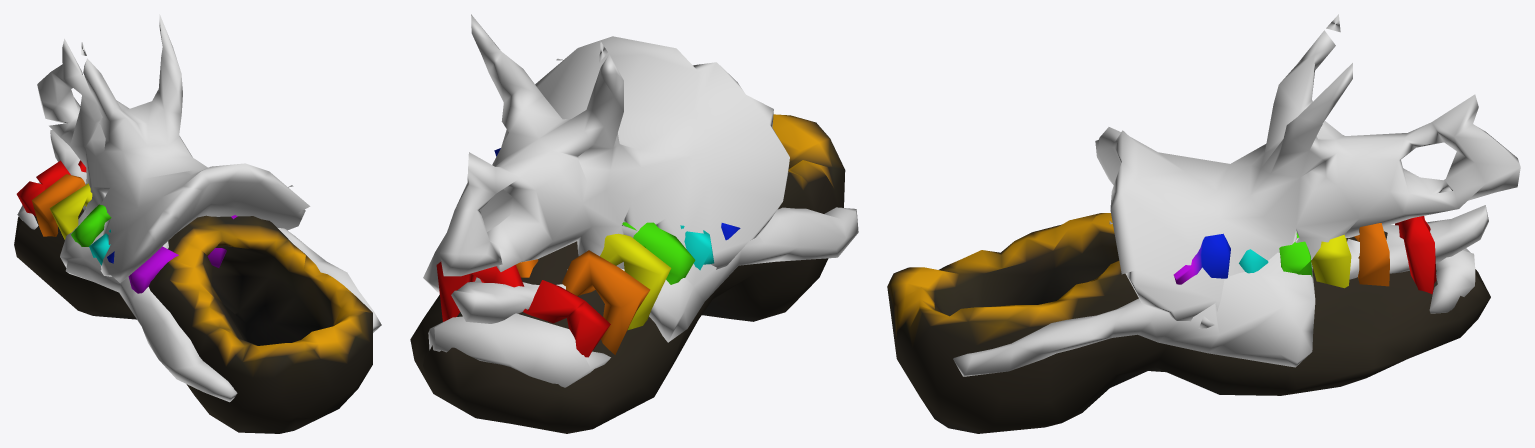
File: mshoe-decals-b.fbx
3 renders of one model, left to right at view 1: azimuth 30°, elevation 25°; view 2: azimuth 150°, elevation 25°; view 3: azimuth 270°, elevation 25°, orthographic. The views are drawn at different scales.
Visible parts, largest first — view 1: base, decal-b, decal-a, decal-c; view 2: decal-b, base, decal-a, decal-c; view 3: base, decal-b, decal-a, decal-c.
Boxes of the visible parts, <box> form: base: <box>14,208,372,433</box>; decal-b: <box>37,14,310,283</box>; decal-a: <box>17,182,381,402</box>; decal-c: <box>16,160,237,293</box>; decal-b: <box>440,14,789,323</box>; base: <box>410,114,845,433</box>; decal-a: <box>423,207,858,387</box>; decal-c: <box>436,148,740,357</box>; base: <box>887,213,1490,433</box>; decal-b: <box>1095,14,1520,328</box>; decal-a: <box>953,248,1475,376</box>; decal-c: <box>1173,216,1436,294</box>.
Bounding box in the file's own units: 0.1304 × 0.2876 × 0.1861.
